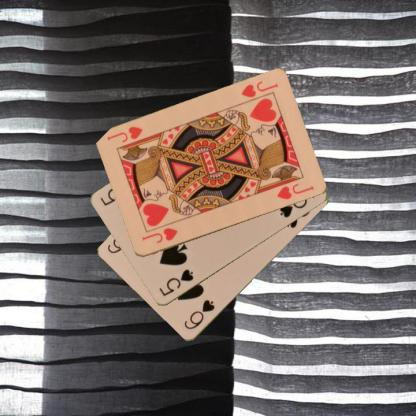5s: (156, 267, 195, 297)
6s: (182, 297, 216, 331)
Jh: (239, 78, 279, 100), (138, 225, 178, 245)
